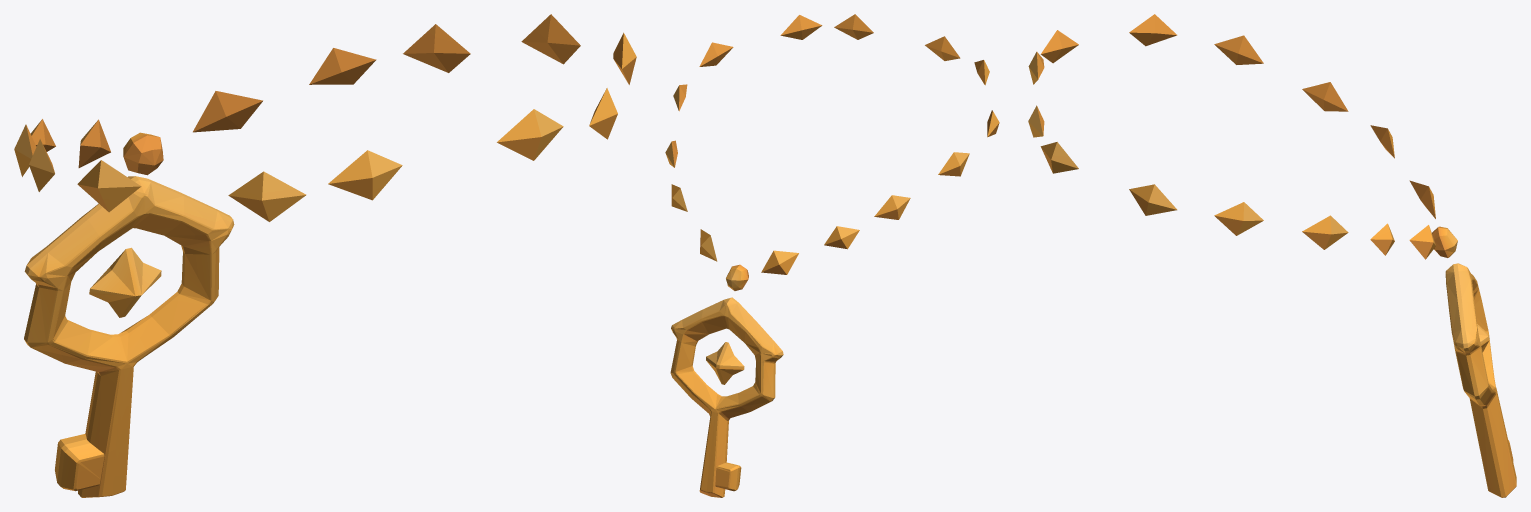
The model's file is CharSkyKid_Neck_AP22Pendant.glb.
3 renders of one model, left to right at view 1: azimuth 30°, elevation 25°; view 2: azimuth 150°, elevation 25°; view 3: azimuth 270°, elevation 25°, orthographic. The views are drawn at different scales.
Visible parts, largest first — view 1: CharSkyKid_Neck_AP22Pendant; view 2: CharSkyKid_Neck_AP22Pendant; view 3: CharSkyKid_Neck_AP22Pendant.
Boxes of the visible parts, box(x1,y1,x2,y2) form: CharSkyKid_Neck_AP22Pendant: box(14, 14, 636, 497); CharSkyKid_Neck_AP22Pendant: box(665, 14, 999, 497); CharSkyKid_Neck_AP22Pendant: box(1028, 14, 1516, 497).
Bounding box in the file's own units: 1.79 × 1.97 × 2.1.
1 material, 1 textured.
